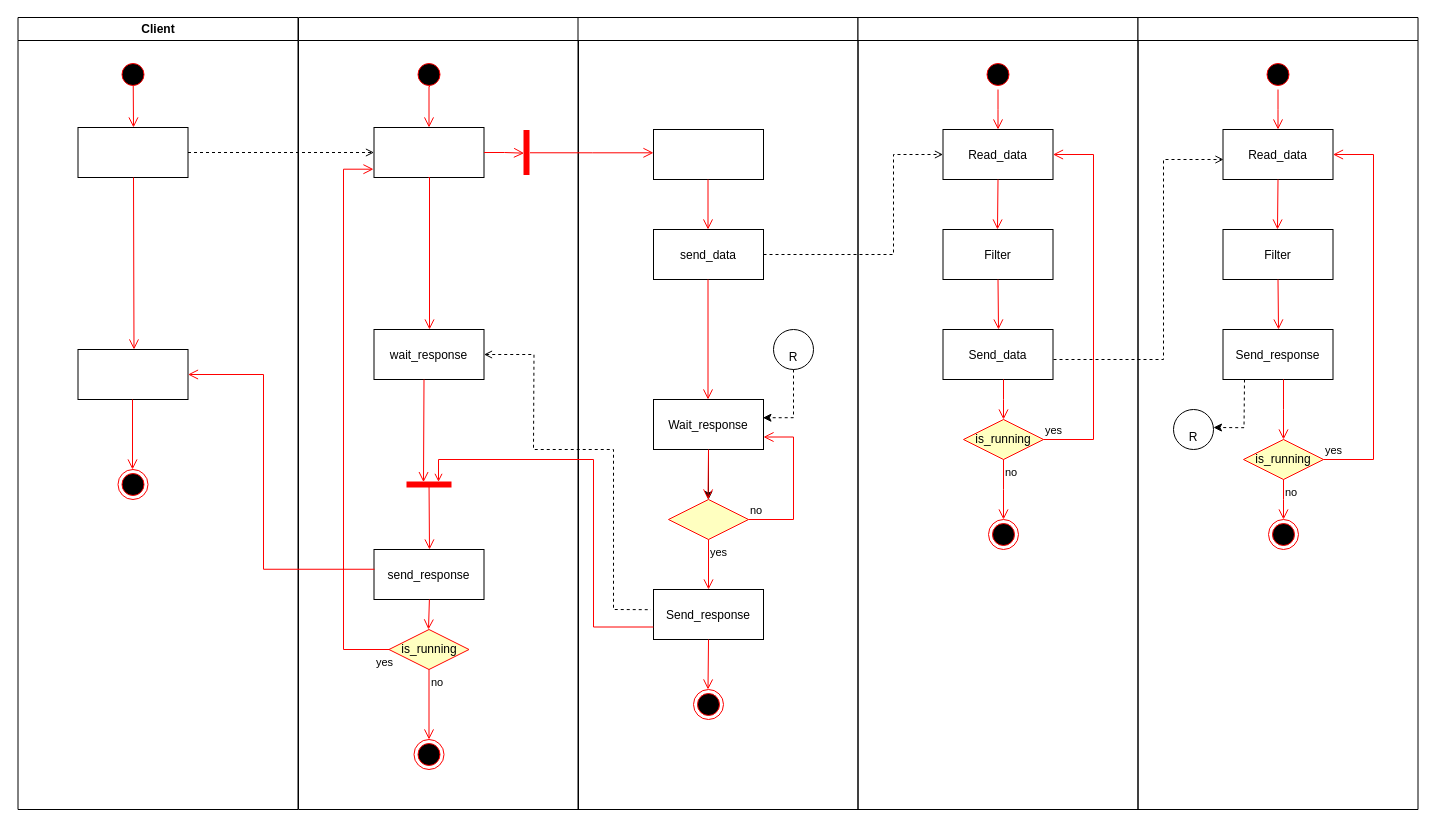
This 1435x827 diagram has some shape labels left out. Here are the shapes that lost their labels. From the top down, the box of each, then its label:
(77, 126, 188, 178): send_request
(373, 126, 484, 178): receive_requests
(652, 128, 764, 180): handle_request
(77, 348, 188, 400): receive_request
(298, 16, 578, 810): Gateway(main thread)
(577, 16, 858, 810): Gateway(worker thread)
(857, 16, 1138, 810): 2020 > Filter
(1137, 16, 1418, 810): English Filter
(668, 498, 748, 540): All queries responsed
